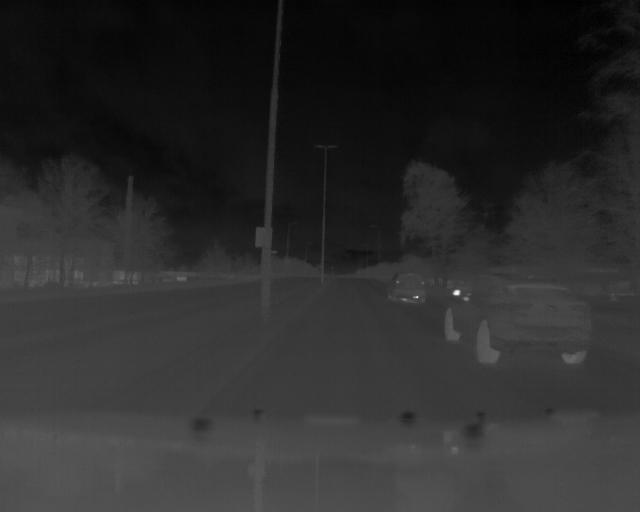car: (445, 280, 589, 369), (386, 269, 429, 306)
